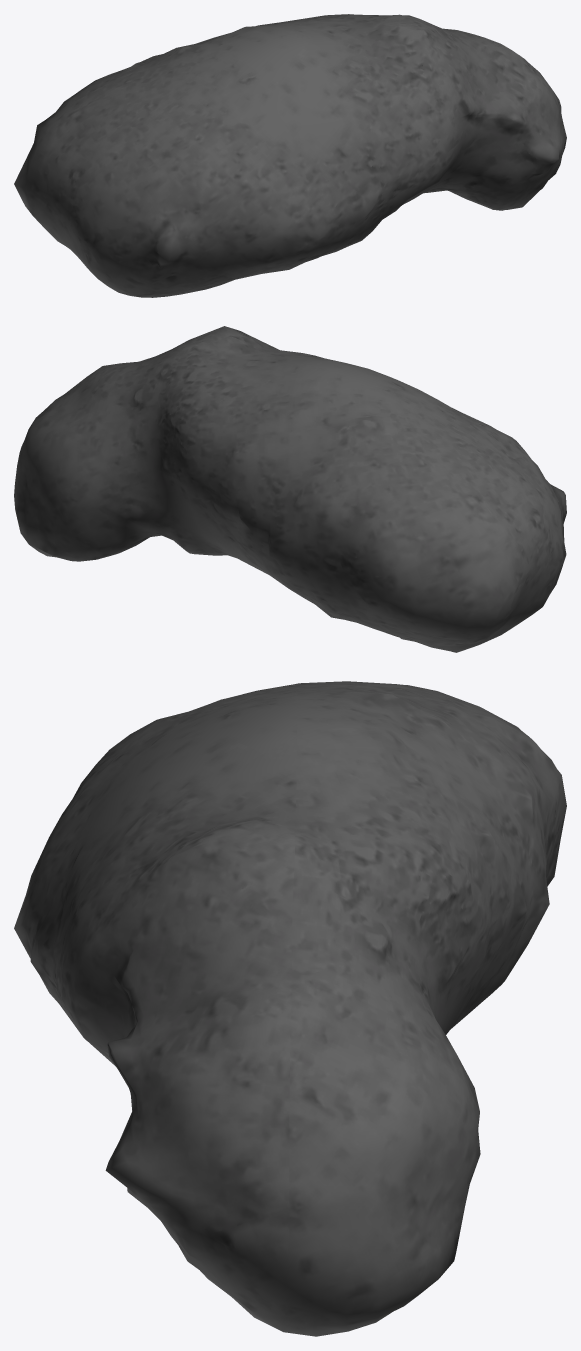
The model's file is itokawa.glb.
3 views of the same model, one above another, from view 1: azimuth 30°, elevation 25°; view 2: azimuth 150°, elevation 25°; view 3: azimuth 270°, elevation 25° (orthographic). The views are drawn at different scales.
Parts seen in each view (by area): view 1: itokawa_LP; view 2: itokawa_LP; view 3: itokawa_LP.
Boxes of the visible parts, x1,y1,x2,y2 form: itokawa_LP: [14, 14, 566, 297]; itokawa_LP: [14, 326, 566, 652]; itokawa_LP: [14, 681, 566, 1336].
Bounding box in the file's own units: 535 × 231 × 290.
1 material, 1 textured.
